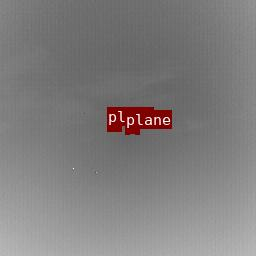plane: (107, 126, 121, 131), (125, 129, 139, 133)
